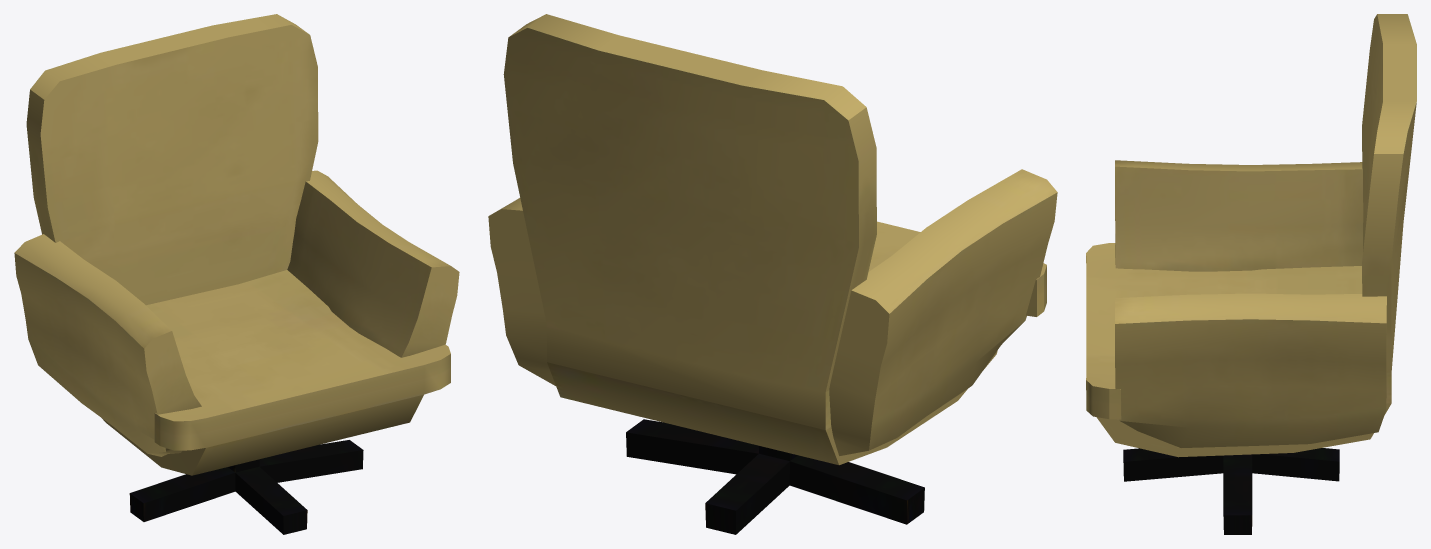
Rendered from LoungeChair.fbx.
3 renders of one model, left to right at view 1: azimuth 30°, elevation 25°; view 2: azimuth 150°, elevation 25°; view 3: azimuth 270°, elevation 25°, orthographic. The views are drawn at different scales.
Visible parts, largest first — view 1: Cube.003; view 2: Cube.003; view 3: Cube.003.
Part boxes in pixels (box(x1,y1,x2,y2)): Cube.003: box(14, 14, 459, 534); Cube.003: box(488, 14, 1057, 534); Cube.003: box(1086, 14, 1416, 534).
Bounding box in the file's own units: 227 × 268 × 199.
